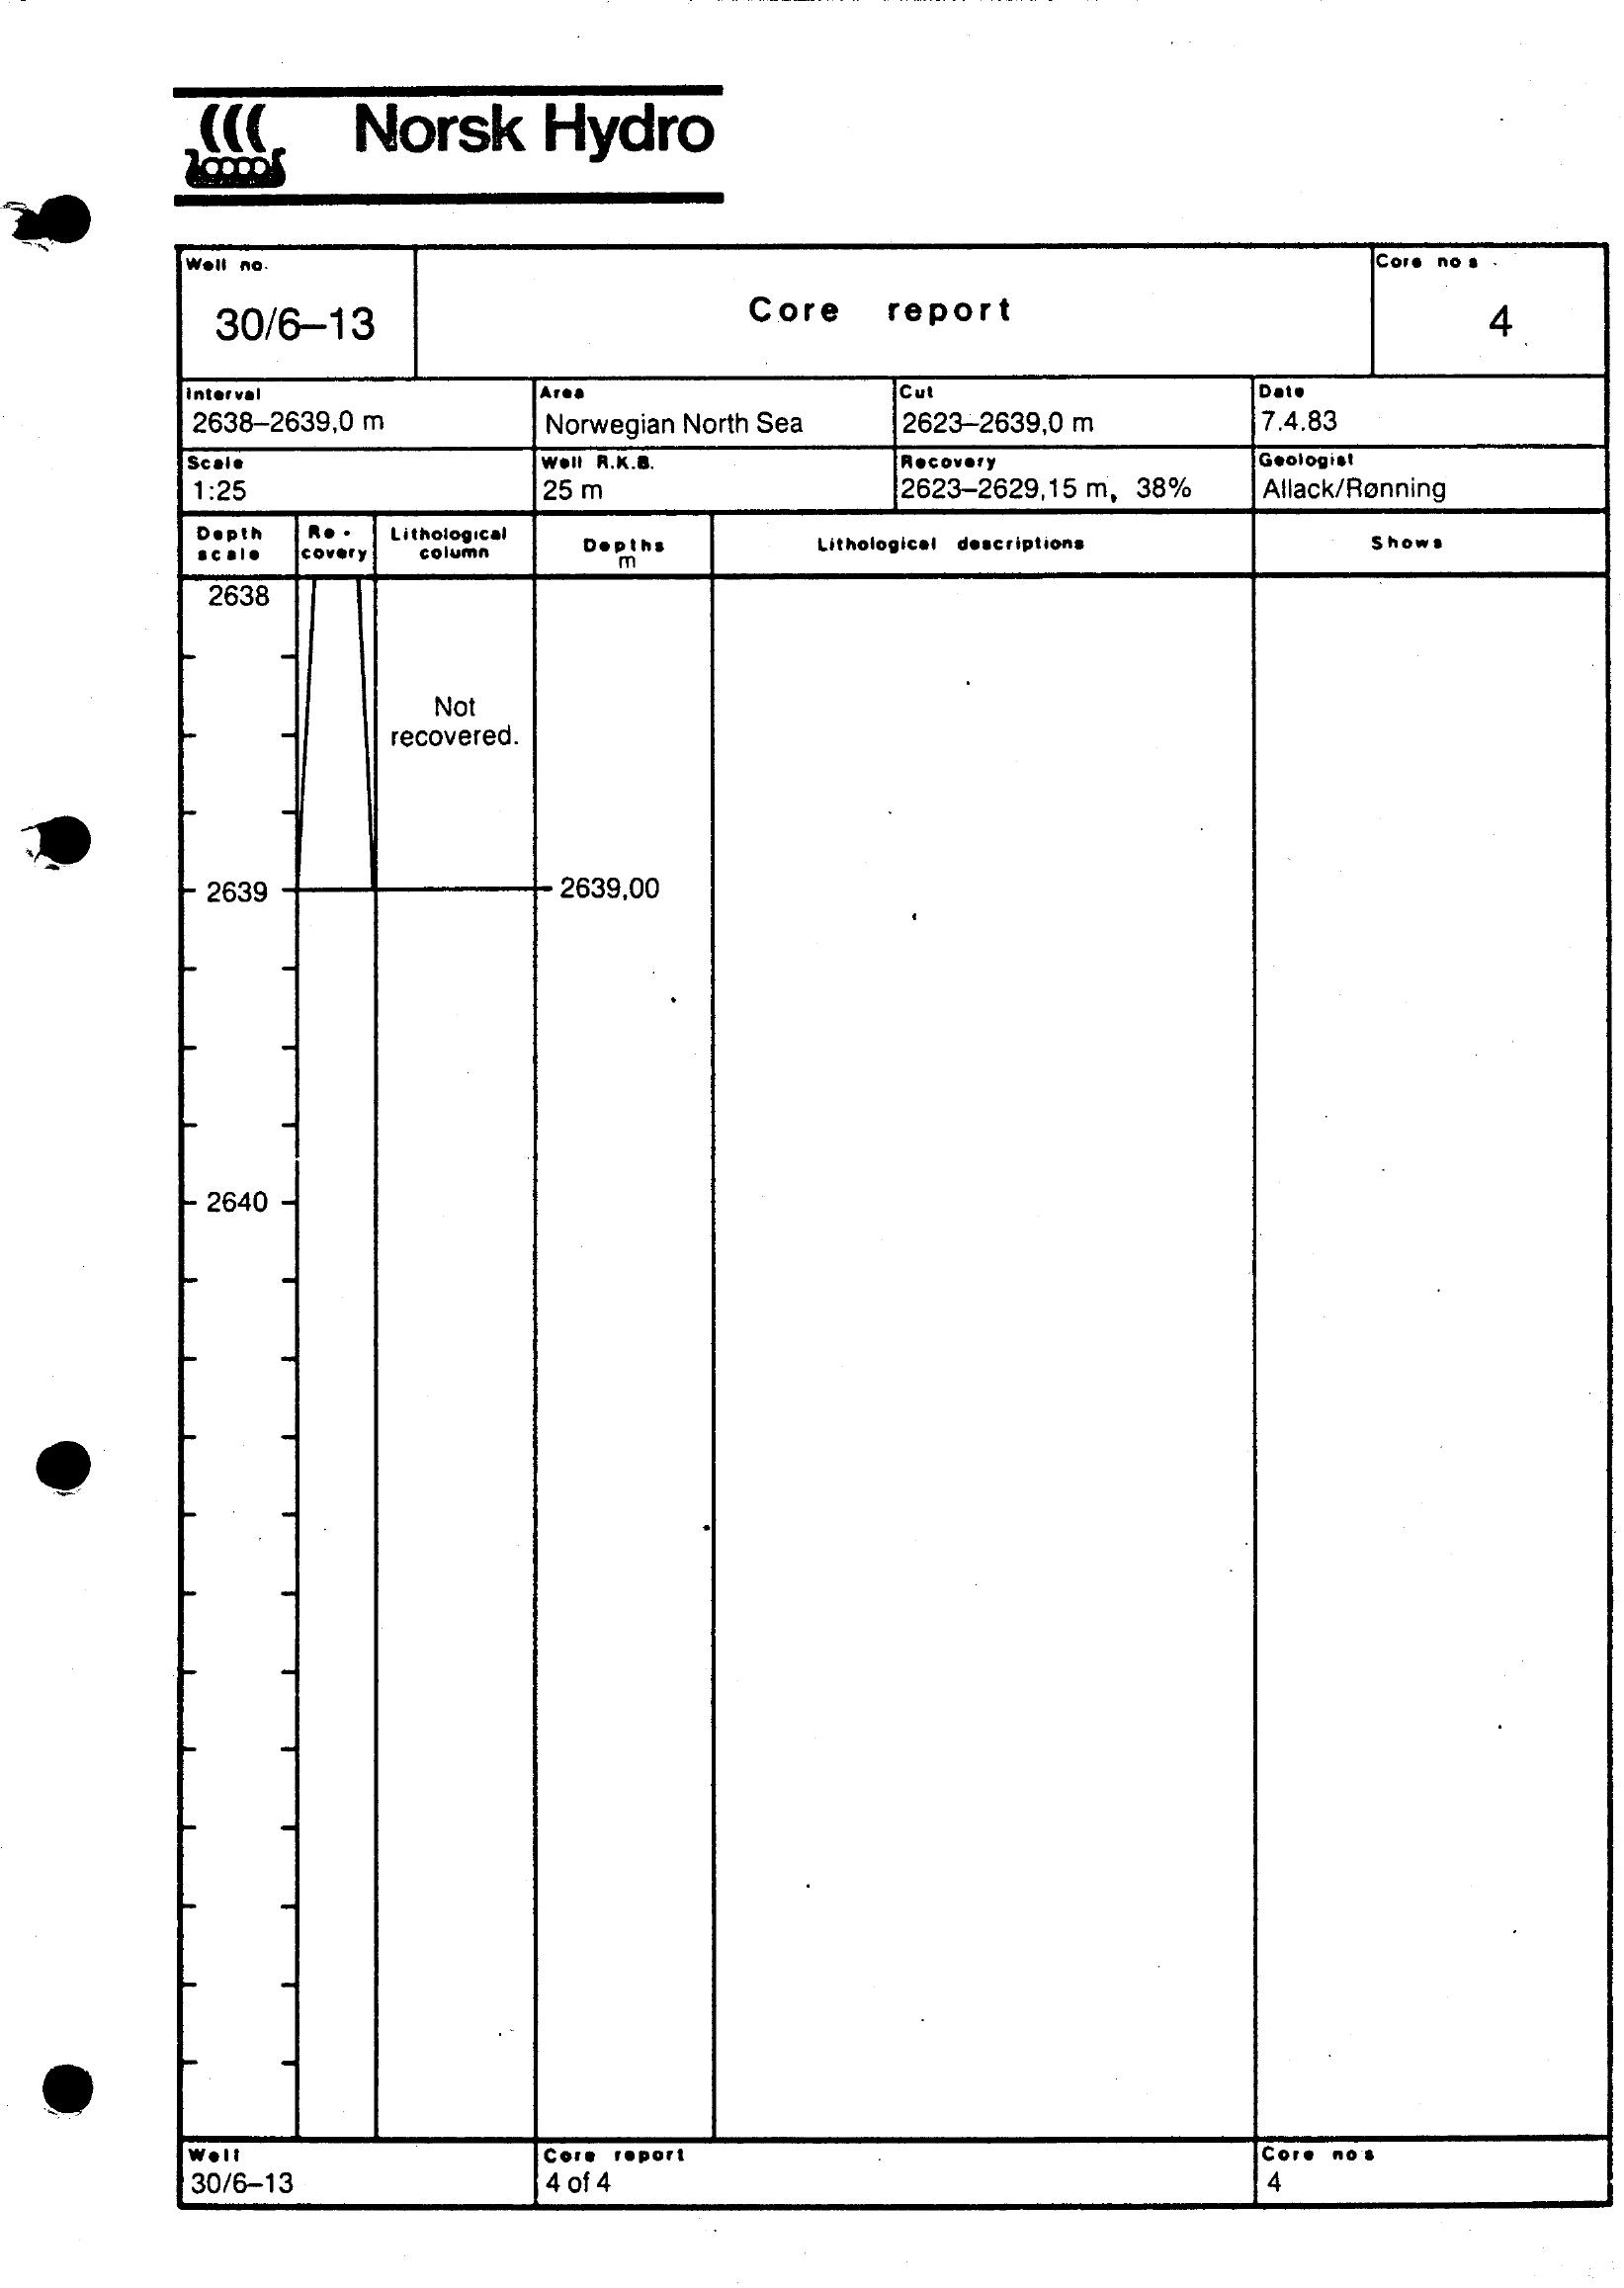graph: (134, 225, 1624, 2246)
undefined: (148, 60, 780, 225)
